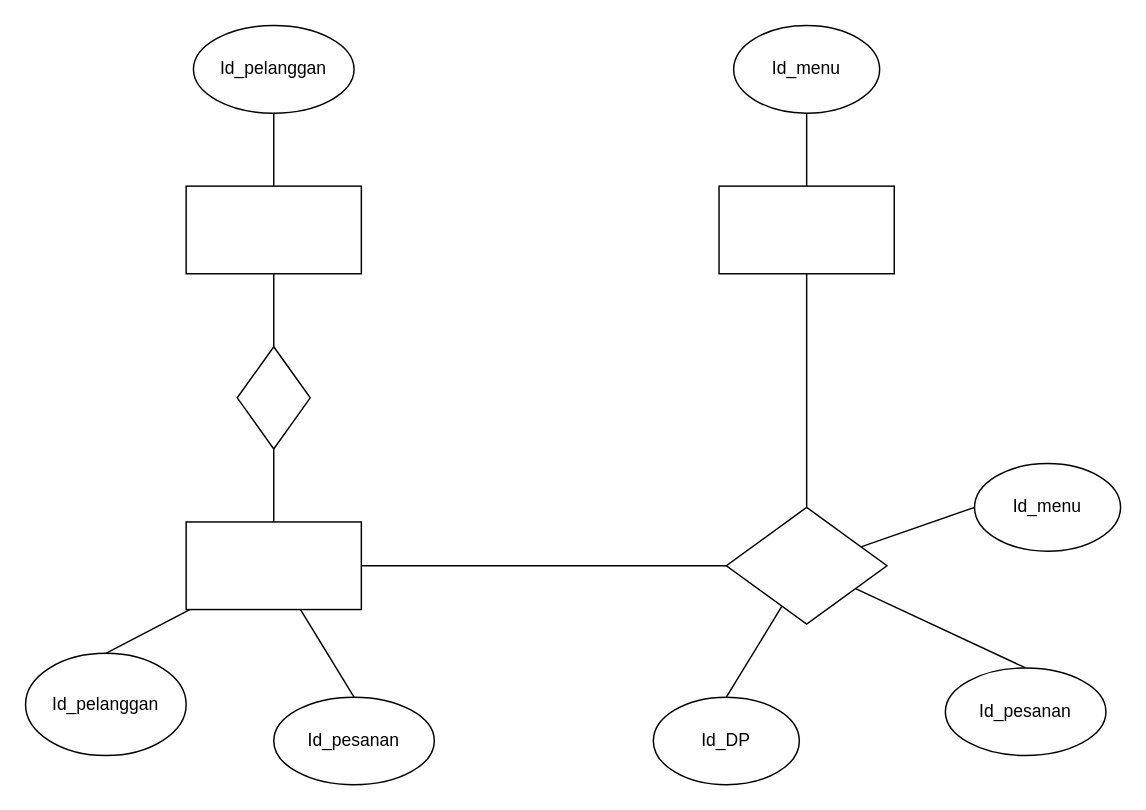
Image size: 1146x810. Some labels were removed from this diagram. Each missing label, with the centre of its shape:
"Detail Pesanan" goes at [806,565].
"Menu" goes at [806,229].
"Pelanggan" goes at [273,229].
"Pesanan" goes at [273,565].
